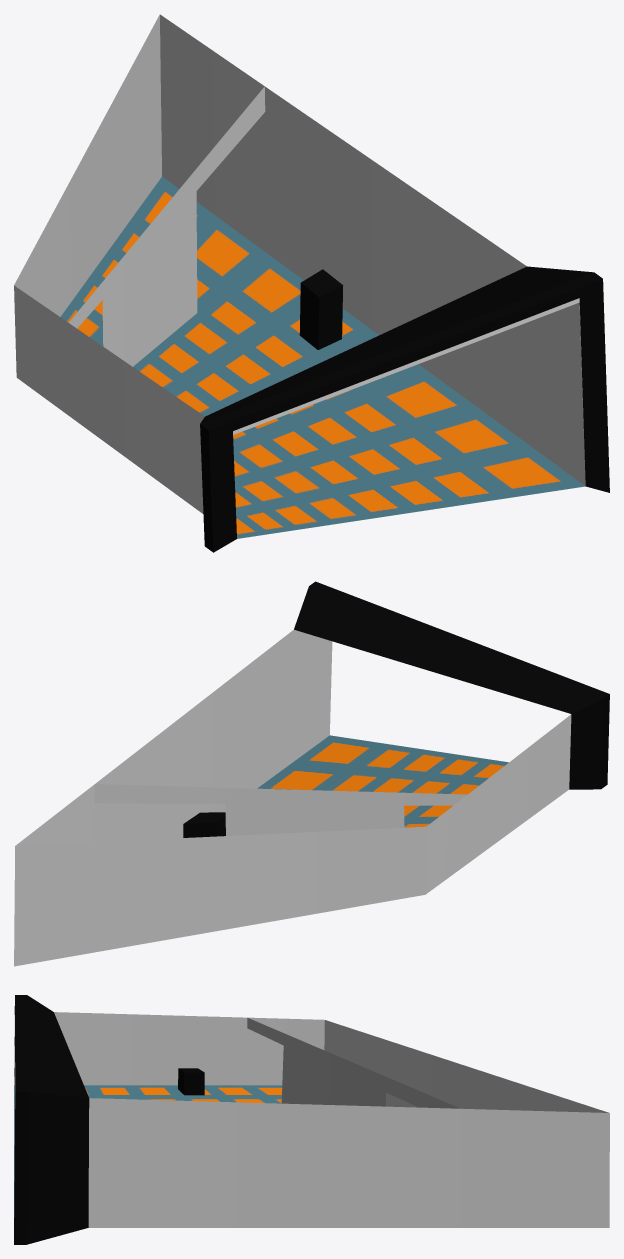
File: ames_rebuild.fbx
3 views of the same model, one above another, from view 1: azimuth 30°, elevation 25°; view 2: azimuth 150°, elevation 25°; view 3: azimuth 270°, elevation 25° (orthographic). The views are drawn at different scales.
Parts seen in each view (by area): view 1: AmresRoom, right; view 2: AmresRoom, right; view 3: AmresRoom, left.
Part boxes in pixels (box(x1,y1,x2,y2)): AmresRoom: box(14, 14, 609, 552); right: box(299, 269, 343, 349); AmresRoom: box(14, 581, 609, 966); right: box(183, 812, 225, 837); AmresRoom: box(14, 995, 609, 1244); left: box(178, 1068, 204, 1095).
Size of the model in its own units: 210 by 108 by 385.
